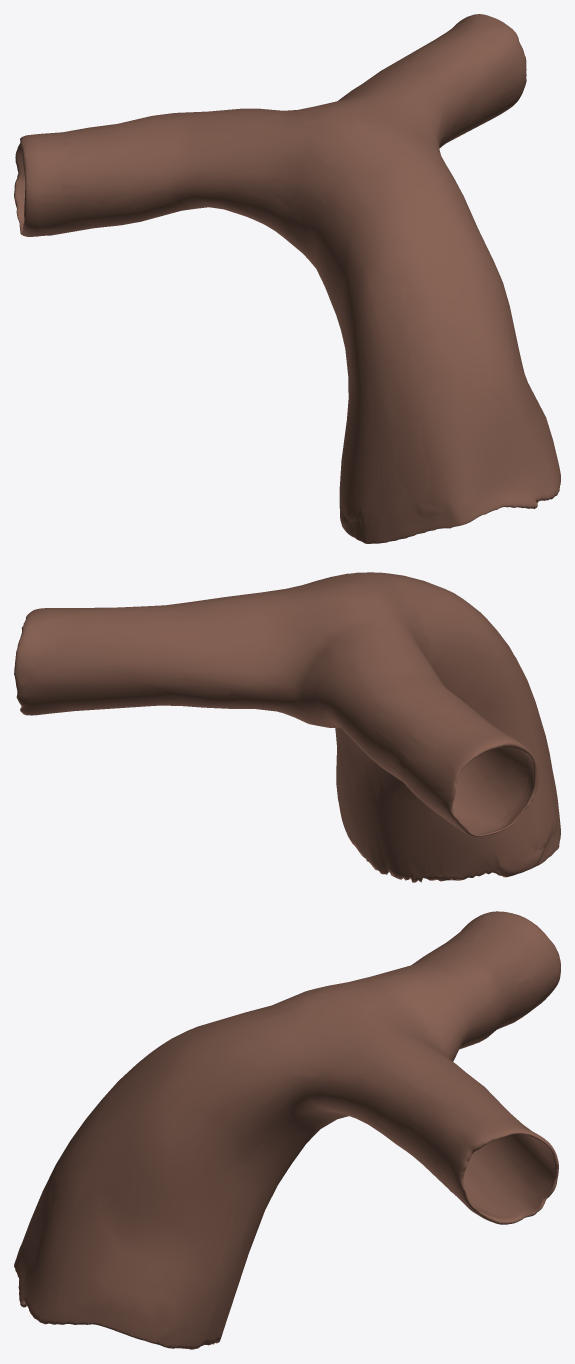
Rendered from pulmonary-trunk.glb.
3 views of the same model, one above another, from view 1: azimuth 30°, elevation 25°; view 2: azimuth 150°, elevation 25°; view 3: azimuth 270°, elevation 25° (orthographic).
Parts seen in each view (by area): view 1: Pulmonary_trunk; view 2: Pulmonary_trunk; view 3: Pulmonary_trunk.
Boxes of the visible parts, <box> form: Pulmonary_trunk: <box>14,14,560,543</box>; Pulmonary_trunk: <box>14,572,560,882</box>; Pulmonary_trunk: <box>14,911,560,1349</box>.
Size of the model in its own units: 1.86 by 1.18 by 1.73.
